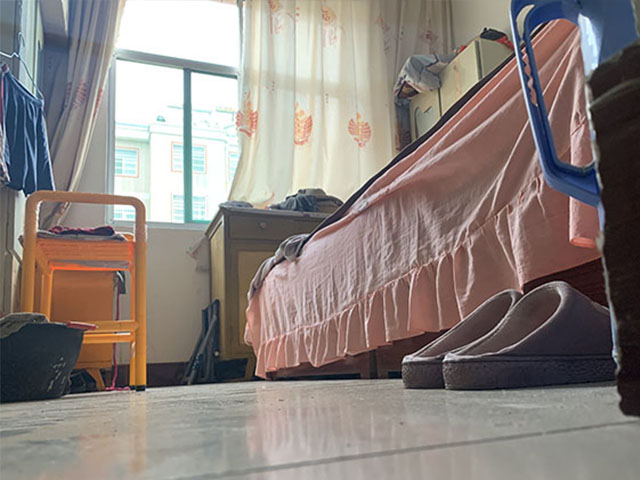bed: (243, 10, 606, 370)
slippers: (446, 278, 621, 396), (400, 287, 521, 388)
